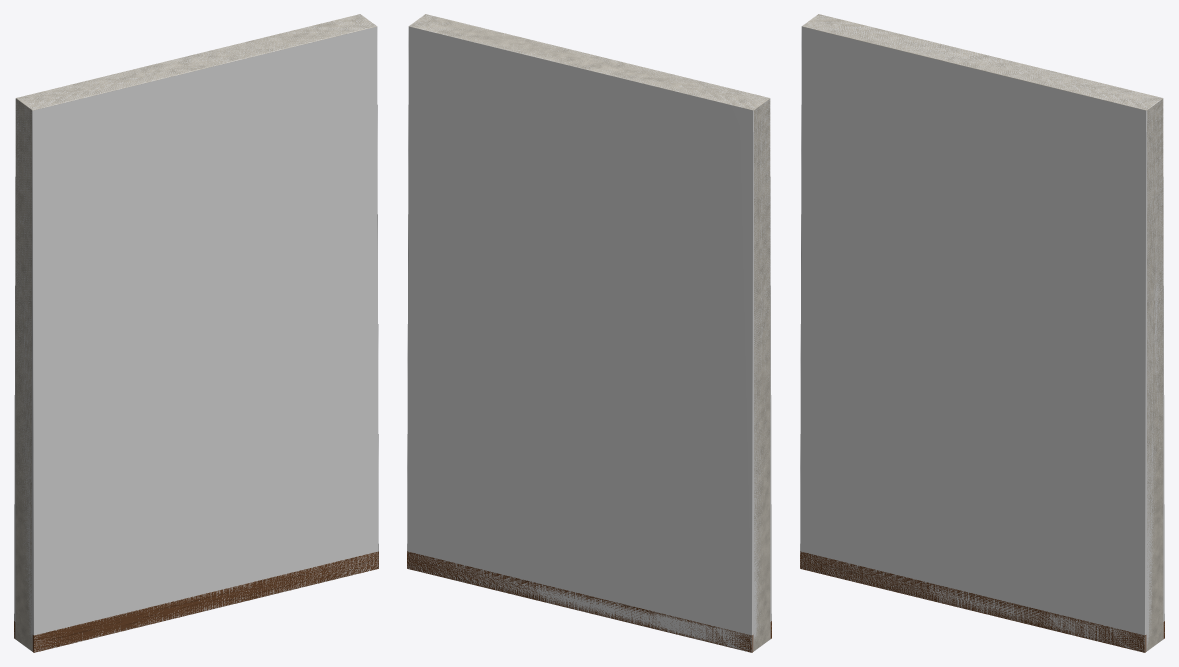
The model's file is SM_KitParede.glb.
The picture shows the model from 3 angles, left to right: view 1: azimuth 30°, elevation 25°; view 2: azimuth 150°, elevation 25°; view 3: azimuth 330°, elevation 25°; orthographic projection.
Parts seen in each view (by area): view 1: SM_KitParede_col, SM_KitParede_Mesh; view 2: SM_KitParede_col, SM_KitParede_Mesh; view 3: SM_KitParede_col, SM_KitParede_Mesh.
Part boxes in pixels (x1,y1,x2,y2): SM_KitParede_col: (14, 14, 378, 652); SM_KitParede_Mesh: (14, 14, 378, 652); SM_KitParede_col: (407, 15, 771, 652); SM_KitParede_Mesh: (407, 14, 771, 652); SM_KitParede_col: (800, 14, 1164, 652); SM_KitParede_Mesh: (800, 14, 1164, 652).
Bounding box in the file's own units: 2 × 3 × 0.2.
Materials: 2 (2 with a texture image).
